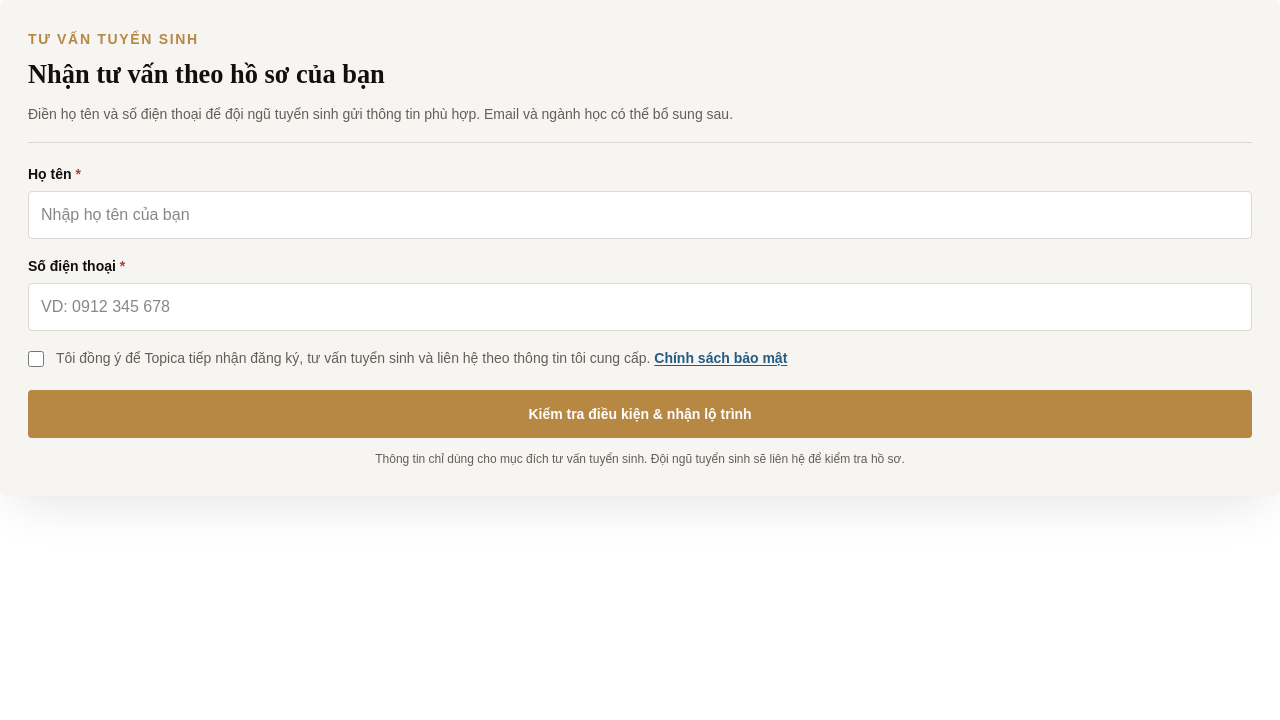
Test case: LeadForm › shows field errors and does not submit empty data
Step 1. Click the button "Kiểm tra điều kiện & nhận lộ trình" → (640, 414), box top-left (28, 390), bottom-right (1252, 438)
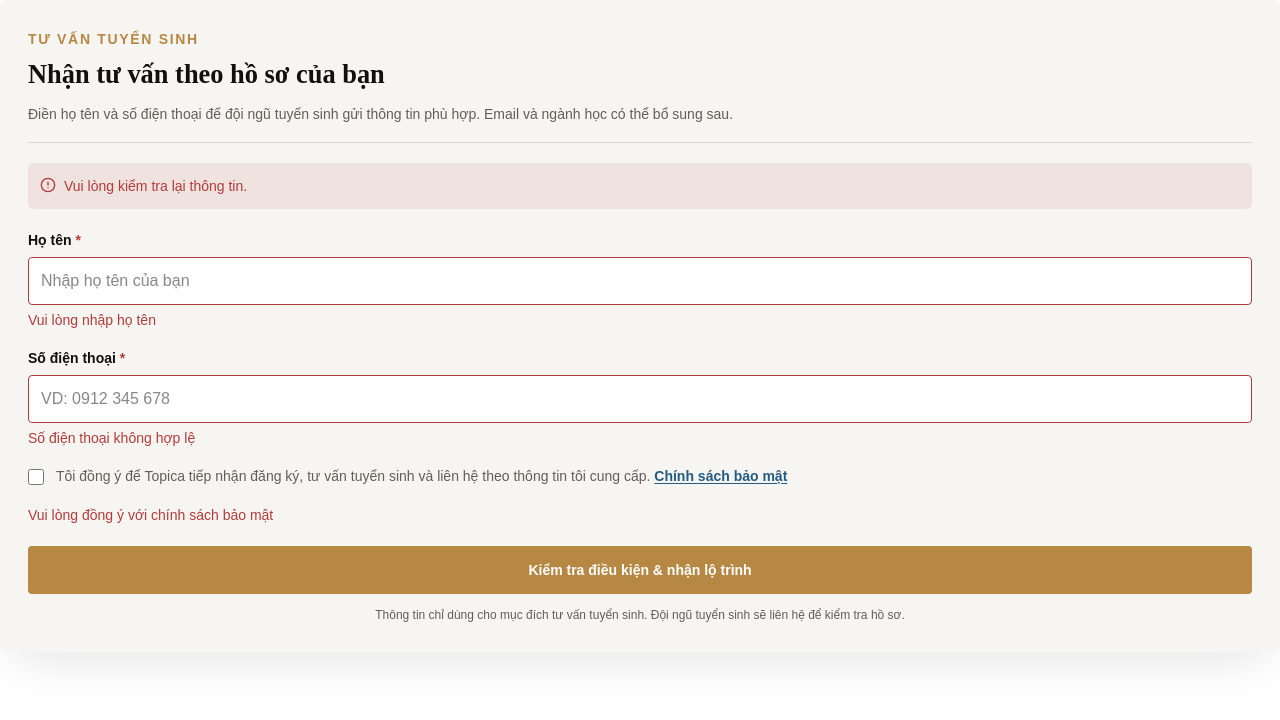
Check: the text "Vui lòng kiểm tra lại thông tin." is shown, box top-left (64, 175), bottom-right (247, 197)
